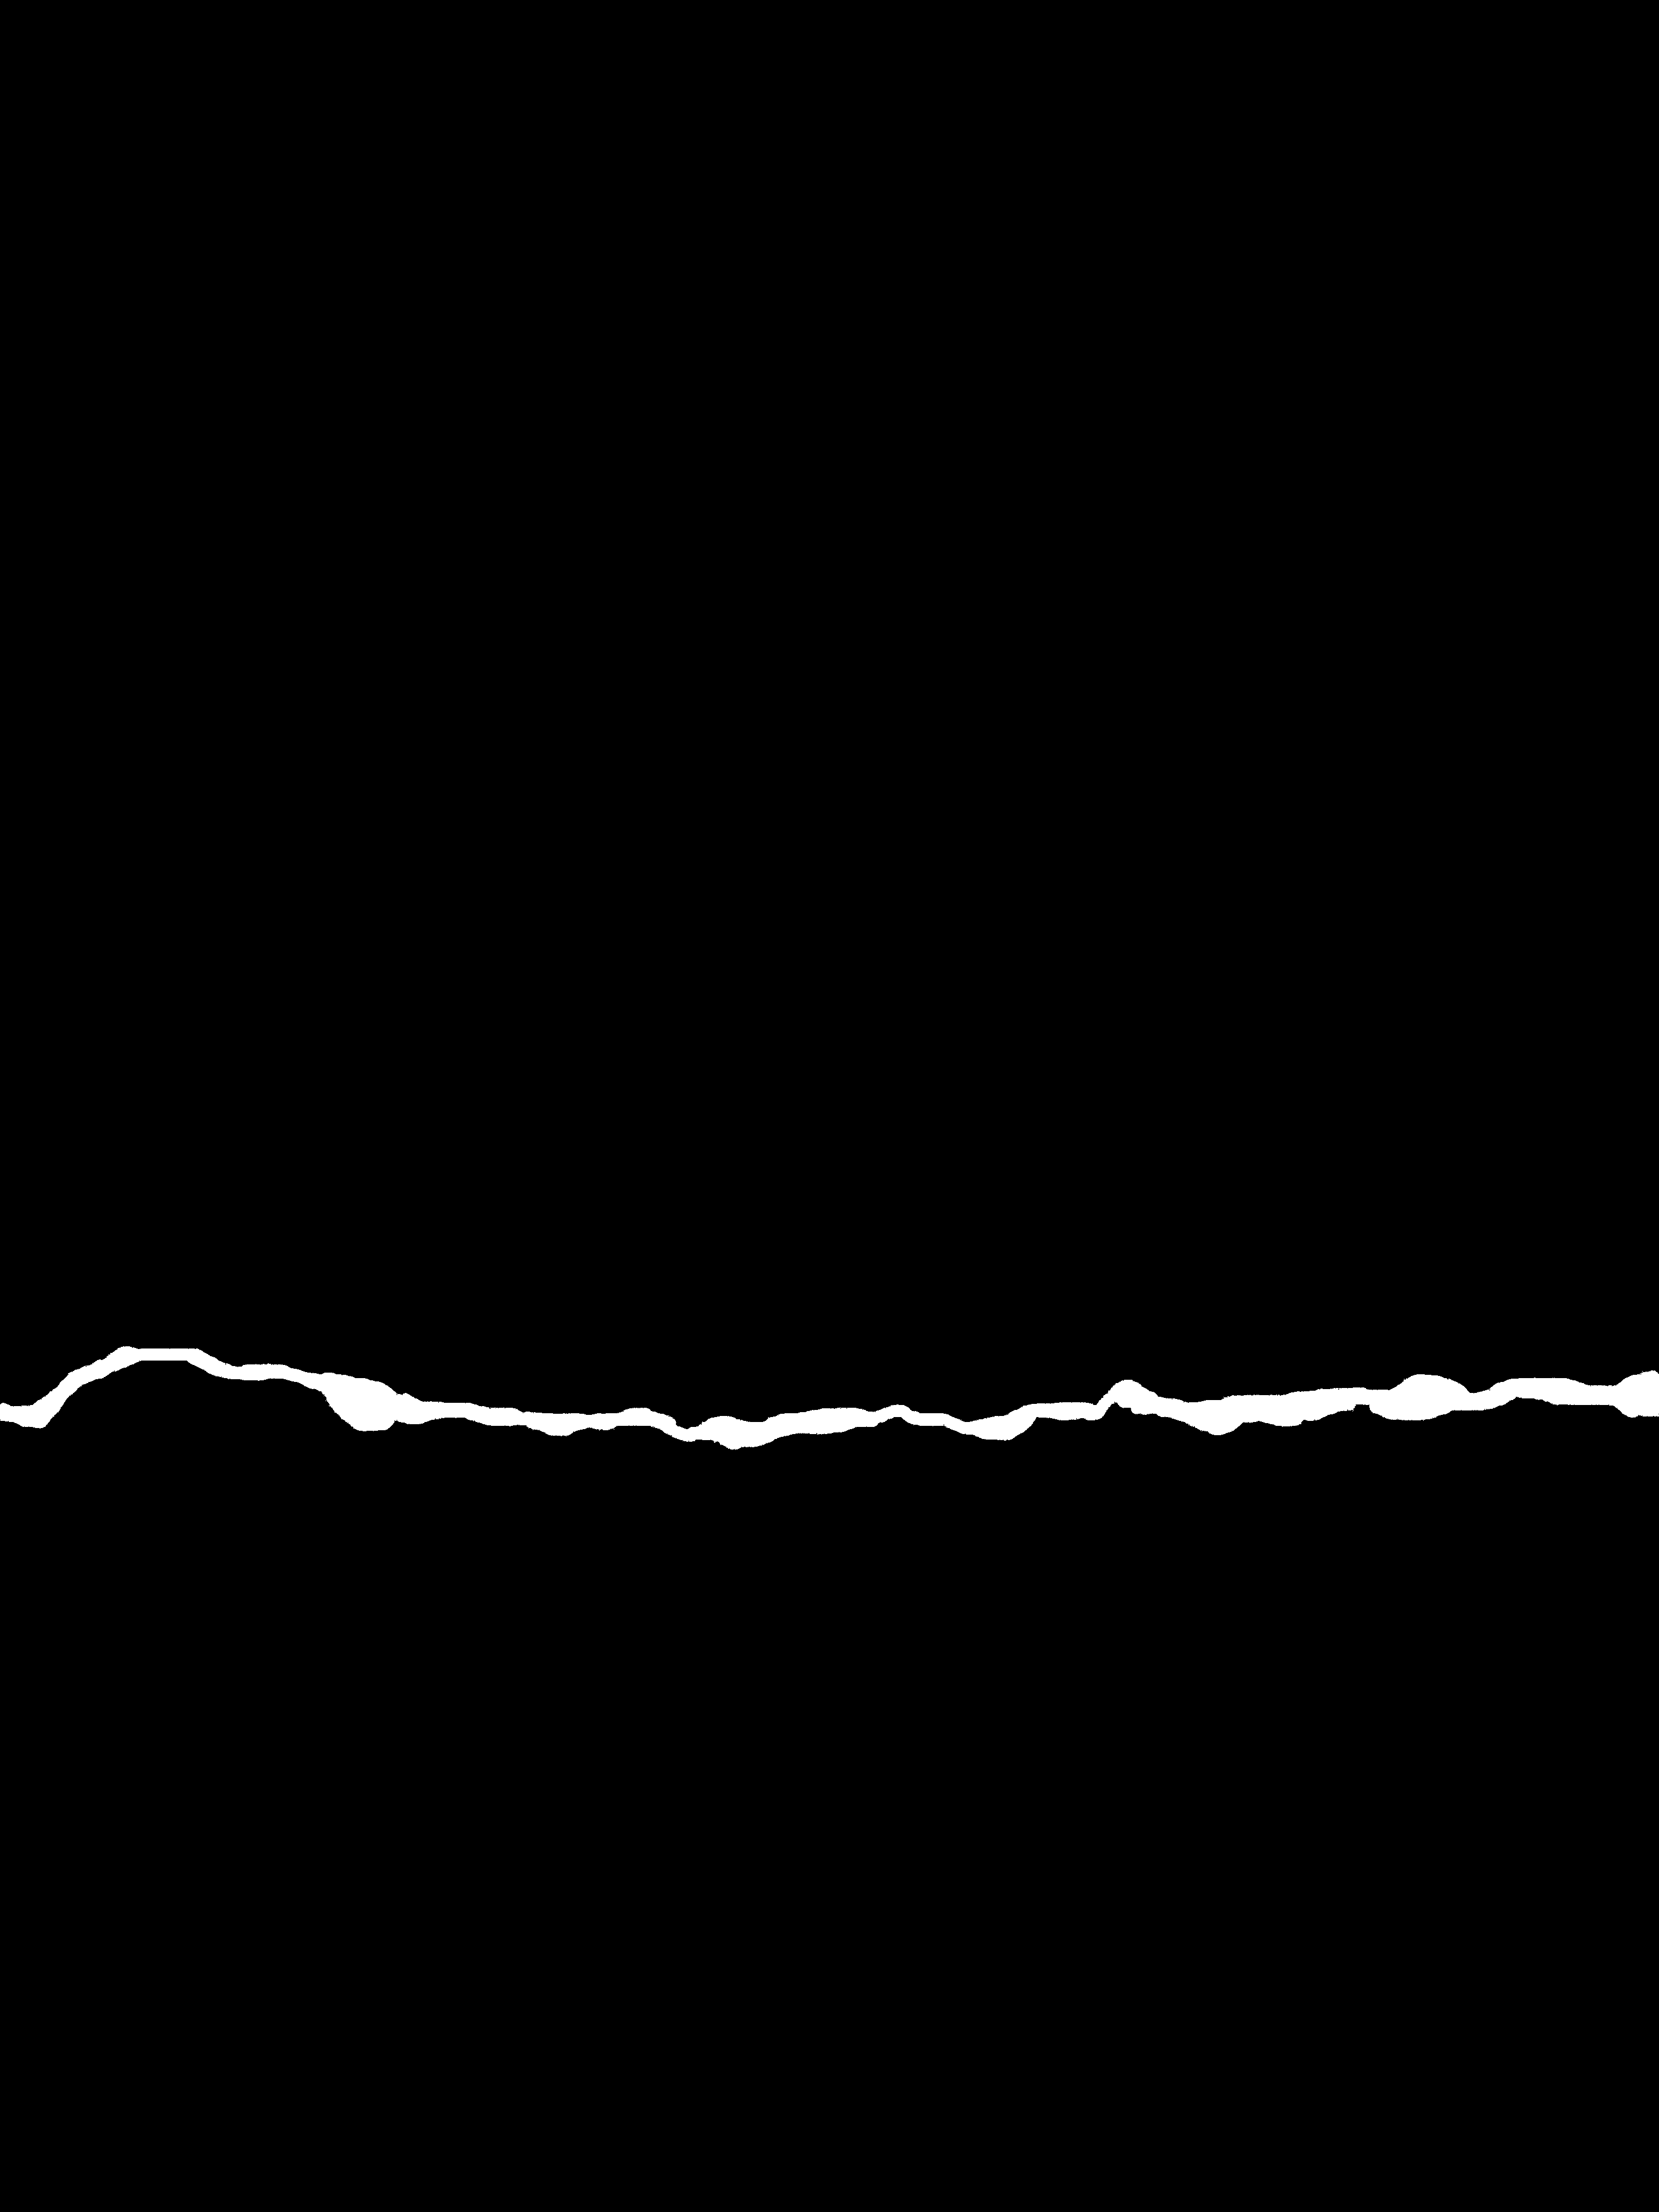Crack: (0, 1305, 1659, 1475)
